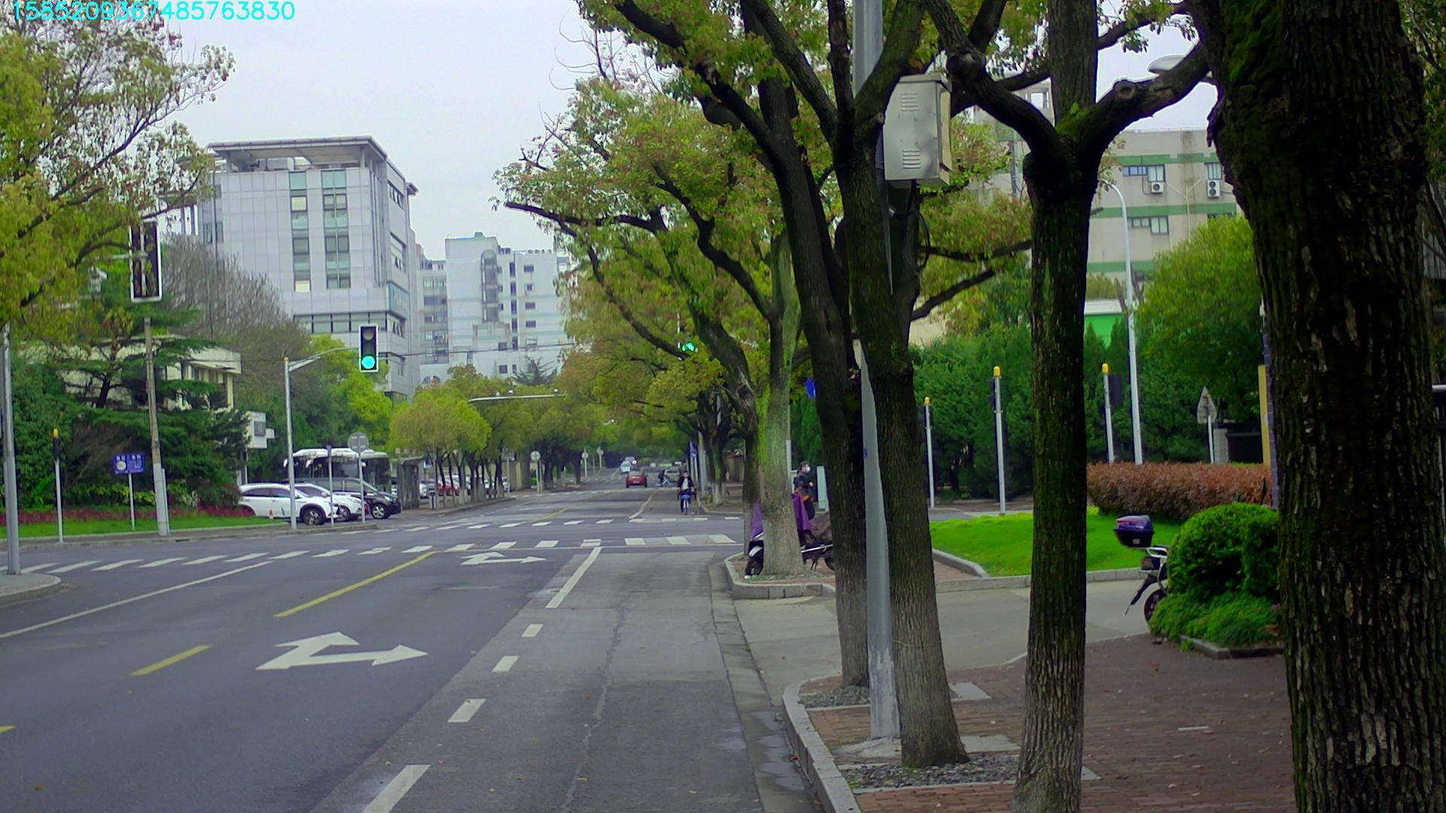green: (359, 324, 377, 371), (680, 340, 698, 358)
